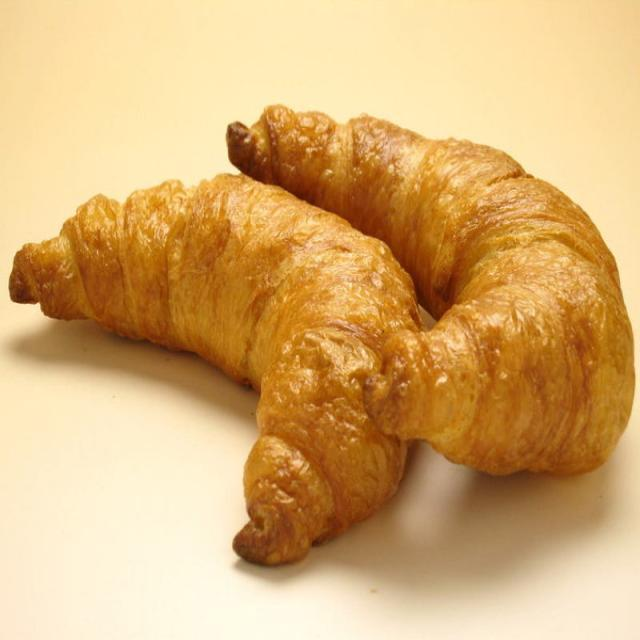Croissant: (0, 156, 435, 576), (221, 93, 640, 494)
